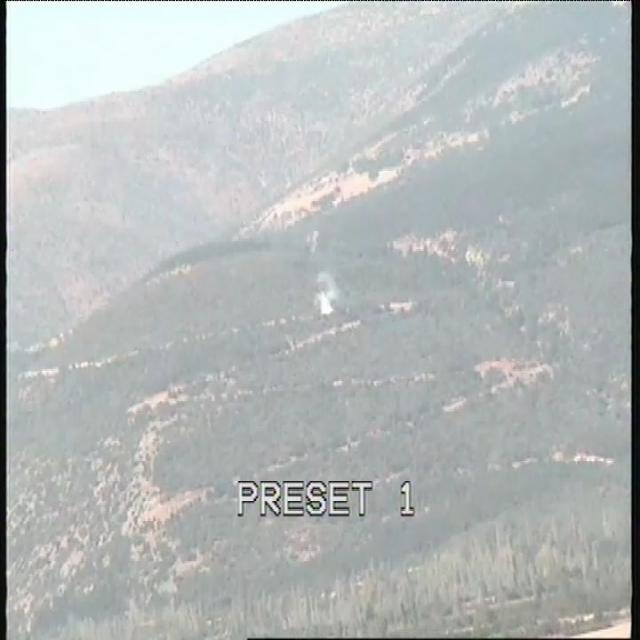smoke: (308, 277, 339, 315)
